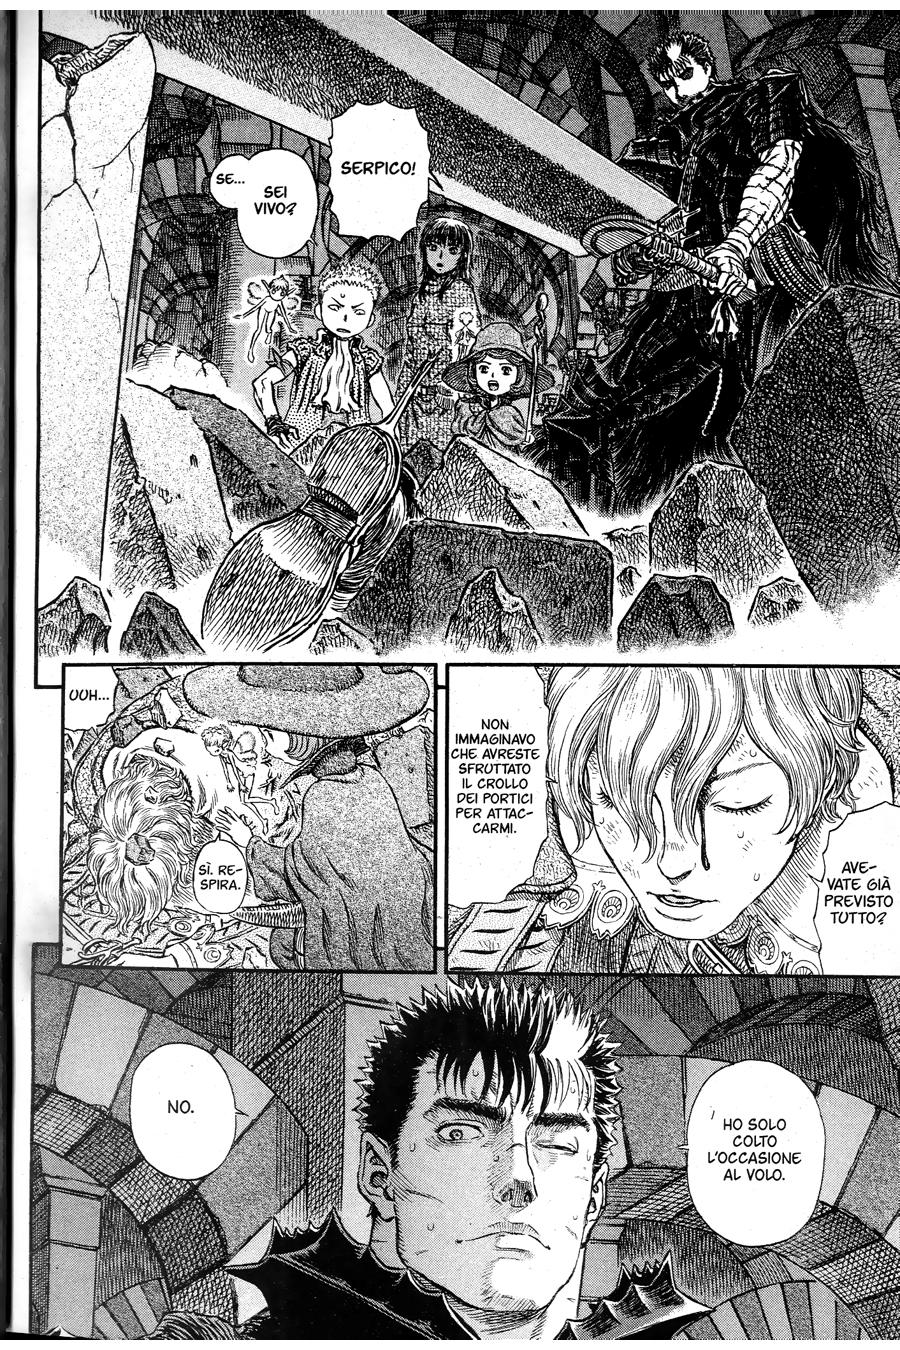Baloon: (685, 1056, 824, 1250), (449, 666, 544, 907), (332, 97, 438, 244), (812, 803, 900, 976), (132, 1044, 234, 1177), (212, 148, 316, 260), (65, 670, 116, 736)
None: (195, 836, 251, 911)
Vignetta: (36, 9, 900, 667), (28, 962, 900, 1343), (446, 662, 900, 979), (65, 662, 440, 970)
